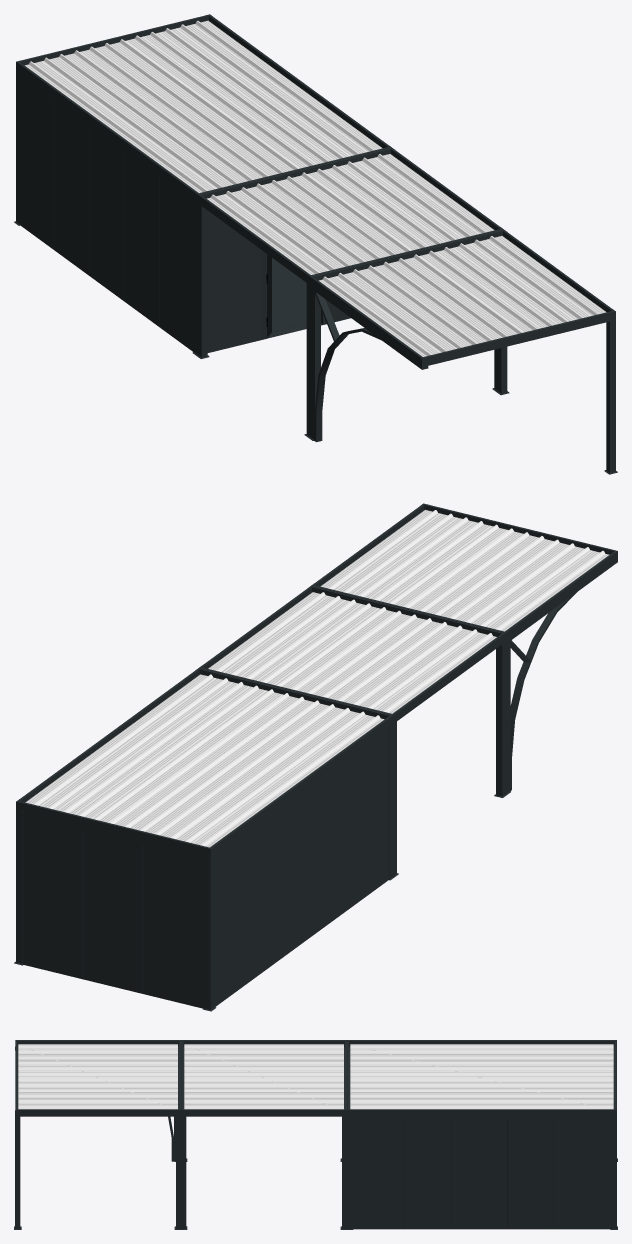
The model's file is 13446_5x3_entreegauche.fbx.
The picture shows the model from 3 angles, top to bottom: view 1: azimuth 30°, elevation 25°; view 2: azimuth 150°, elevation 25°; view 3: azimuth 270°, elevation 25°; orthographic projection. The views are drawn at different scales.
Parts seen in each view (by area): view 1: priximbattable_net_abris_de_voiture_13446_module_carport_ave, folha; view 2: priximbattable_net_abris_de_voiture_13446_module_carport_ave; view 3: priximbattable_net_abris_de_voiture_13446_module_carport_ave.
Boxes of the visible parts, box(x1,y1,x2,y2) form: priximbattable_net_abris_de_voiture_13446_module_carport_ave: box(14, 14, 617, 474); folha: box(266, 254, 322, 338); priximbattable_net_abris_de_voiture_13446_module_carport_ave: box(14, 503, 617, 1011); priximbattable_net_abris_de_voiture_13446_module_carport_ave: box(14, 1040, 617, 1229).
Bounding box in the file's own units: 324 × 254 × 1164.
1 material, 1 textured.
